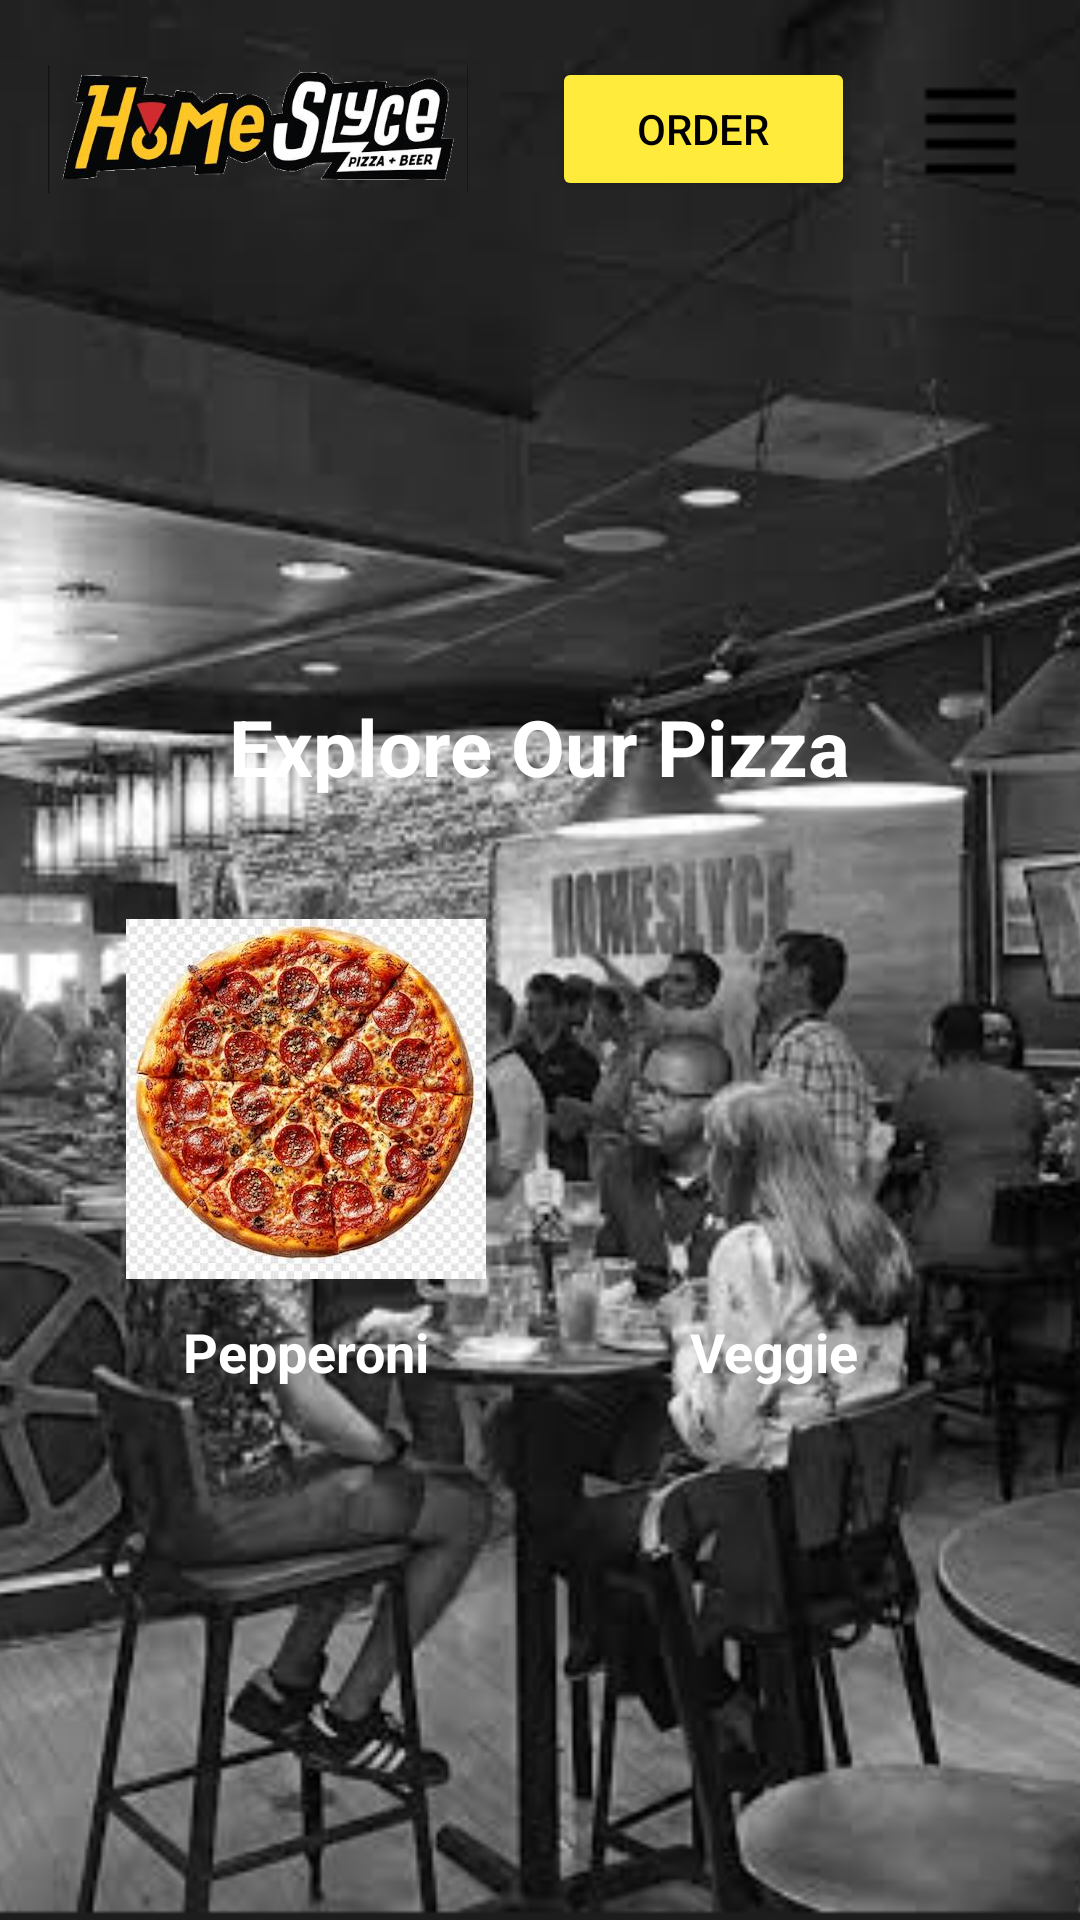

Named icons in this screenshot (1080*1920) and their centers, [x,y]:
Menu Button: [970,131]
